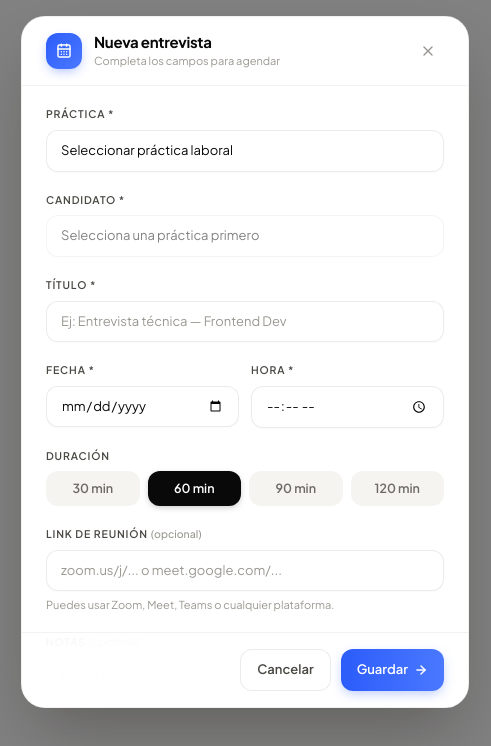
it: InterviewFormModal › validaciones del submit › error si applicationId está vacío
Select "Backend Intern" in the dropdown labelled "Práctica *": (245, 151) top-left (46, 130), bottom-right (444, 172)
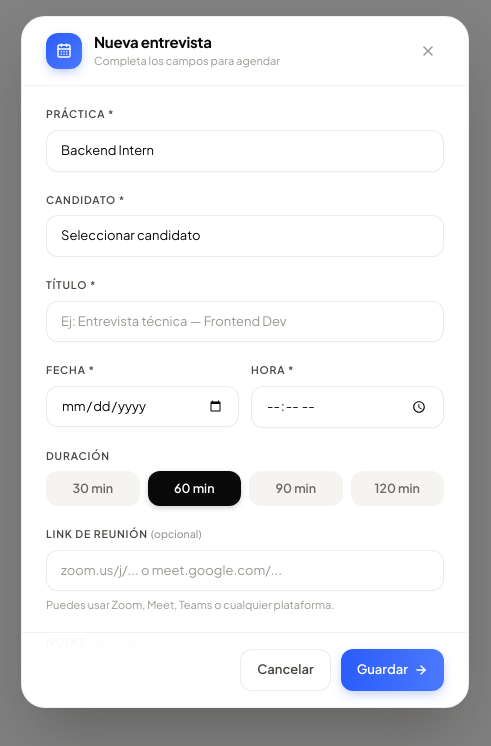
Click the button "Guardar": (392, 670) top-left (341, 649), bottom-right (444, 691)
(page scrolled)
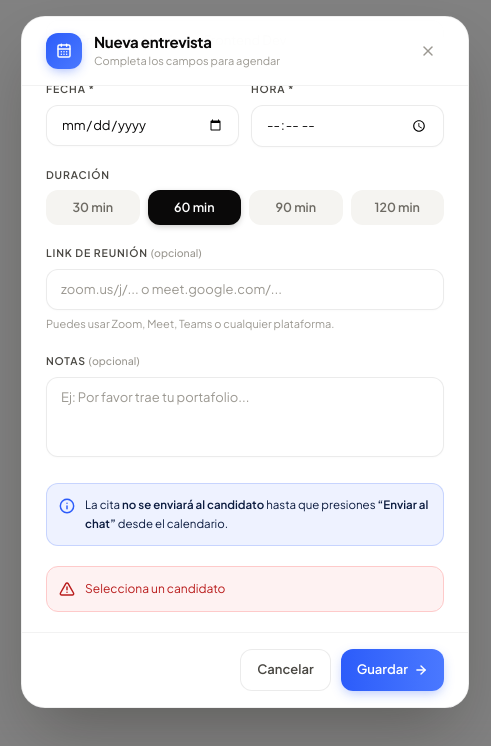
Check: the text "Selecciona un candidato" is shown, box top-left (85, 579), bottom-right (225, 599)
